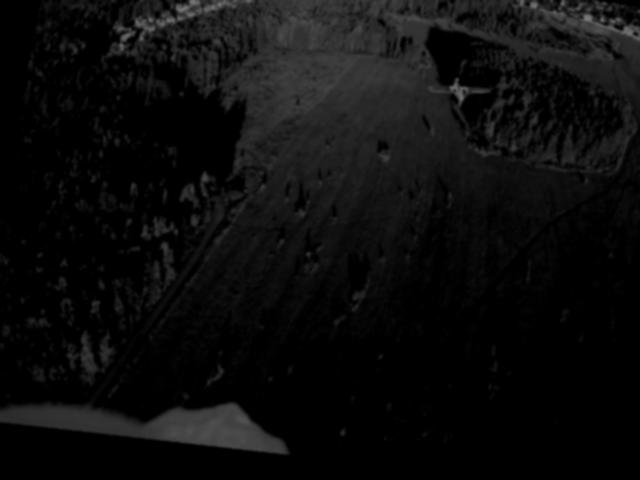hedef: (421, 73, 496, 132)
